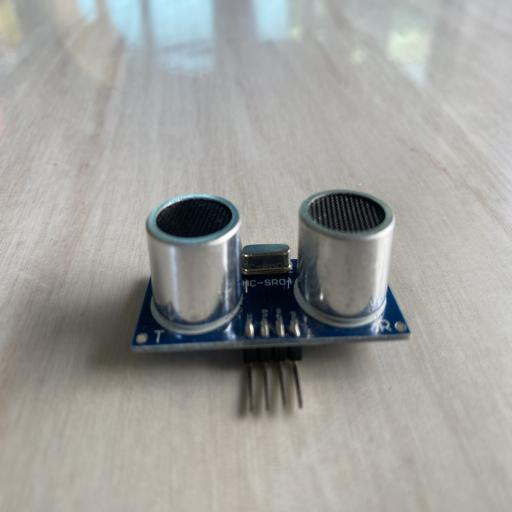Ultrasonic Sensor: (131, 188, 411, 416)
